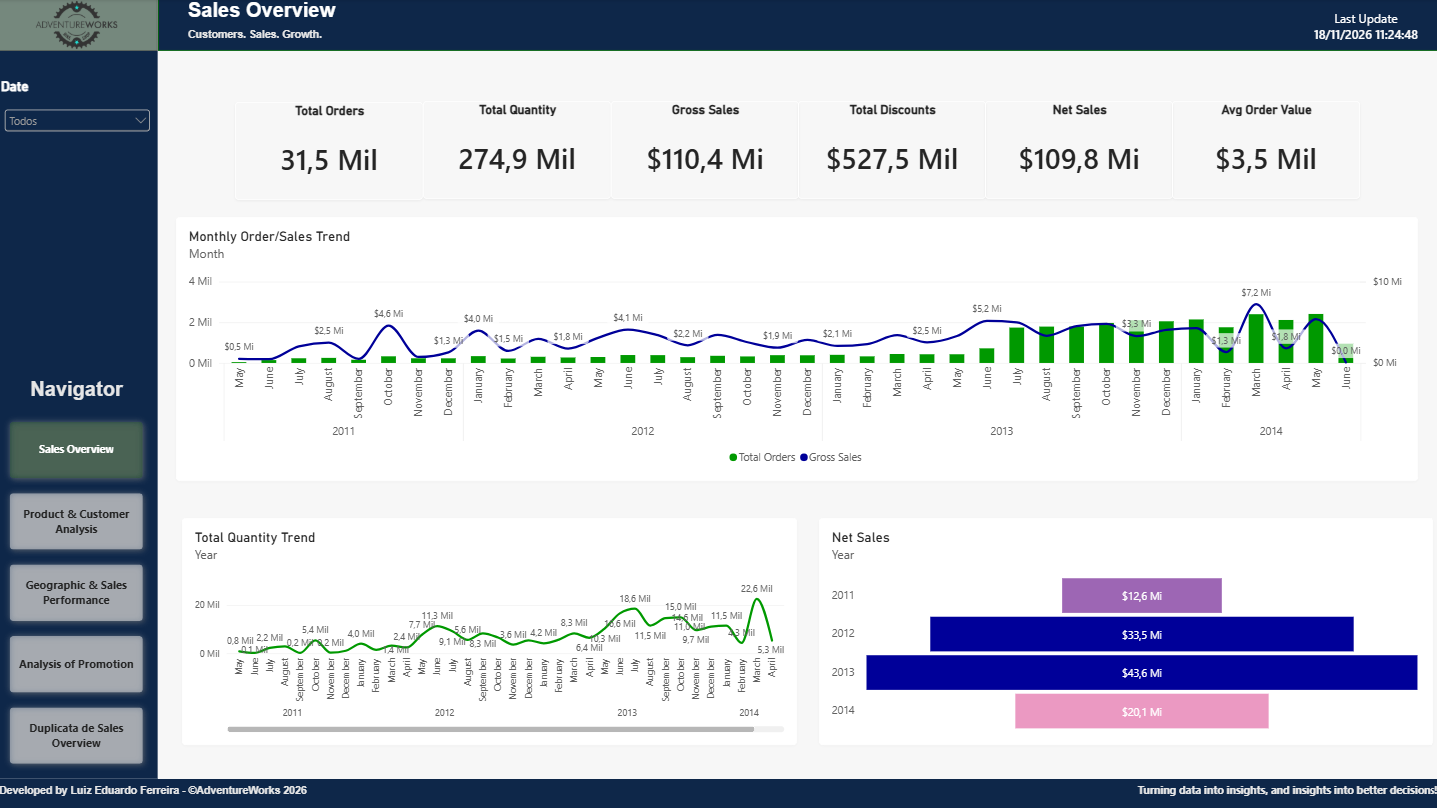

What the dashboard file says about the page in this screenshot:
{"tool":"powerbi","page":{"name":"Sales Overview","canvas":[1920,1080],"ordinal":1},"visuals":[{"type":"shape","box":[0,69.2,215.5,968.3],"z":0},{"type":"shape","box":[215.3,0,1704.7,68.8],"z":1000},{"type":"shape","box":[0,1037,1919.6,41.6],"z":2000},{"type":"cardVisual","fields":{"Data":["Min(a-métricas.Data Atual)"]},"box":[1724.8,6.7,194.8,57.8],"z":3000},{"type":"textbox","box":[1504.2,1043.2,414.3,30.6],"z":4000},{"type":"textbox","box":[3.6,1042.4,421.7,36.2],"z":5000},{"type":"textbox","box":[255.4,0,579.9,50.5],"z":6000},{"type":"textbox","box":[255.4,37.2,308.6,43.9],"z":7000},{"type":"image","box":[0,0,215.3,68.8],"z":8000},{"type":"pageNavigator","box":[9.3,553.3,195.5,473.5],"z":9000},{"type":"textbox","box":[9.3,485.5,195.5,54.5],"z":10000}]}

Visuals, with their boxes in screenshot pixels (x1, y1, x2, y2), scaled from the page's 1920x1080 canvas onto the 1437x808 screenshot:
shape: 0/52/161/776
shape: 161/0/1436/51
shape: 0/776/1436/807
cardVisual - Min(a-métricas.Data Atual): 1291/5/1436/48
textbox: 1126/780/1436/803
textbox: 3/780/318/807
textbox: 191/0/625/38
textbox: 191/28/422/61
image: 0/0/161/51
pageNavigator: 7/414/153/768
textbox: 7/363/153/404
